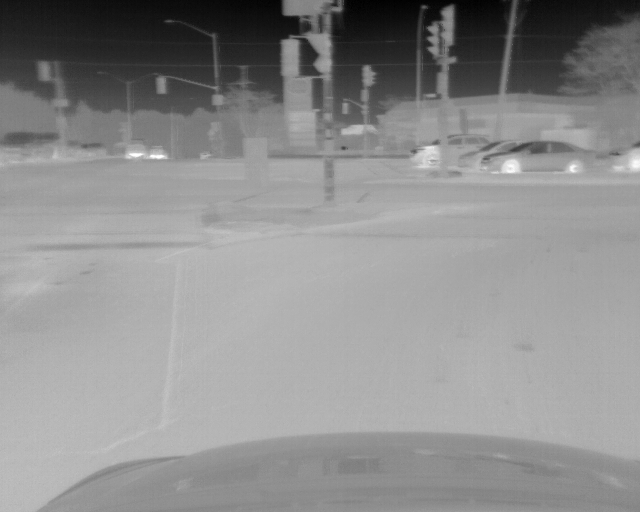car: (478, 140, 593, 173), (408, 134, 488, 165), (457, 140, 524, 170), (607, 143, 640, 174), (124, 140, 147, 160), (149, 146, 167, 160)
